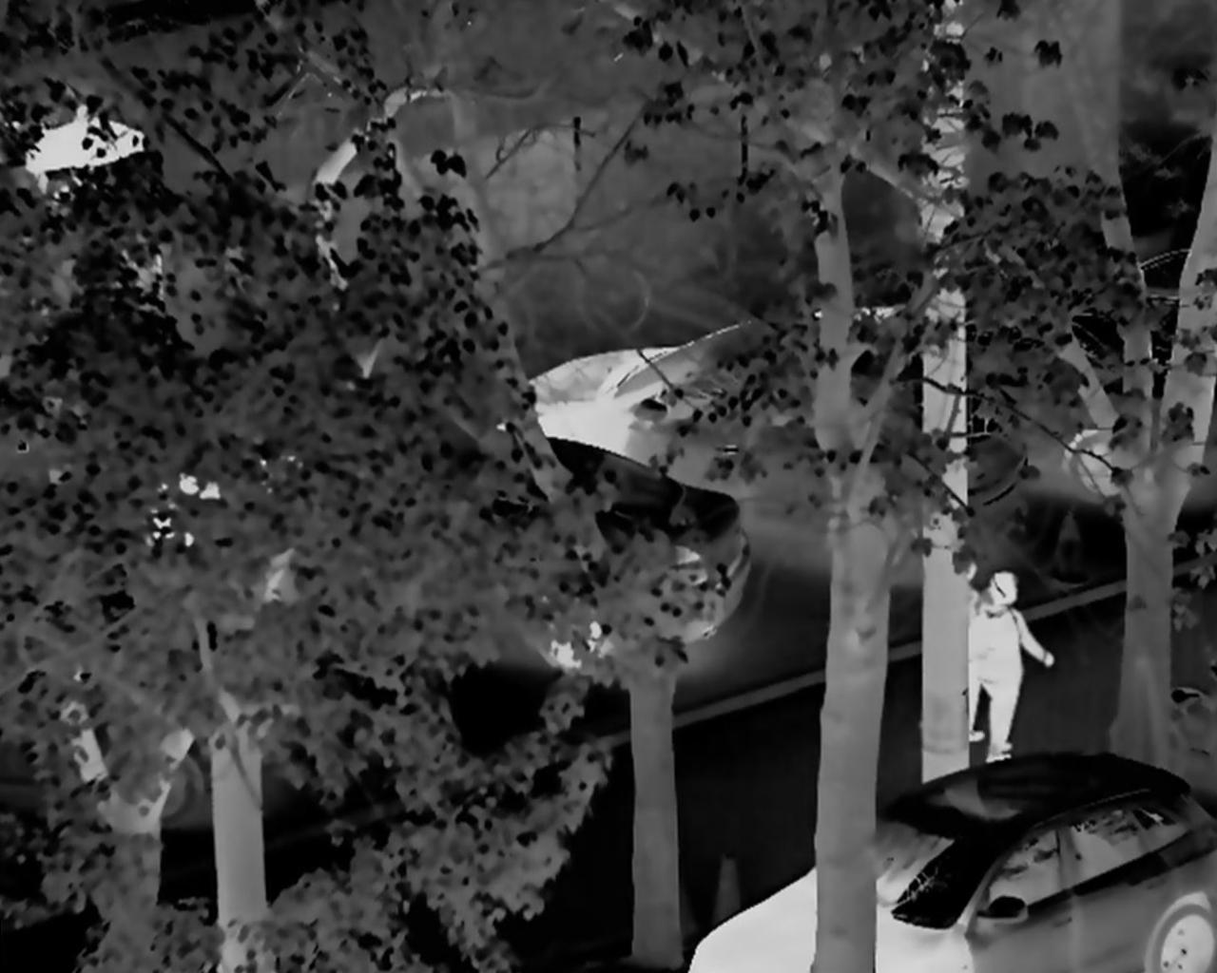person: (976, 568, 1050, 786), (952, 569, 986, 769)
